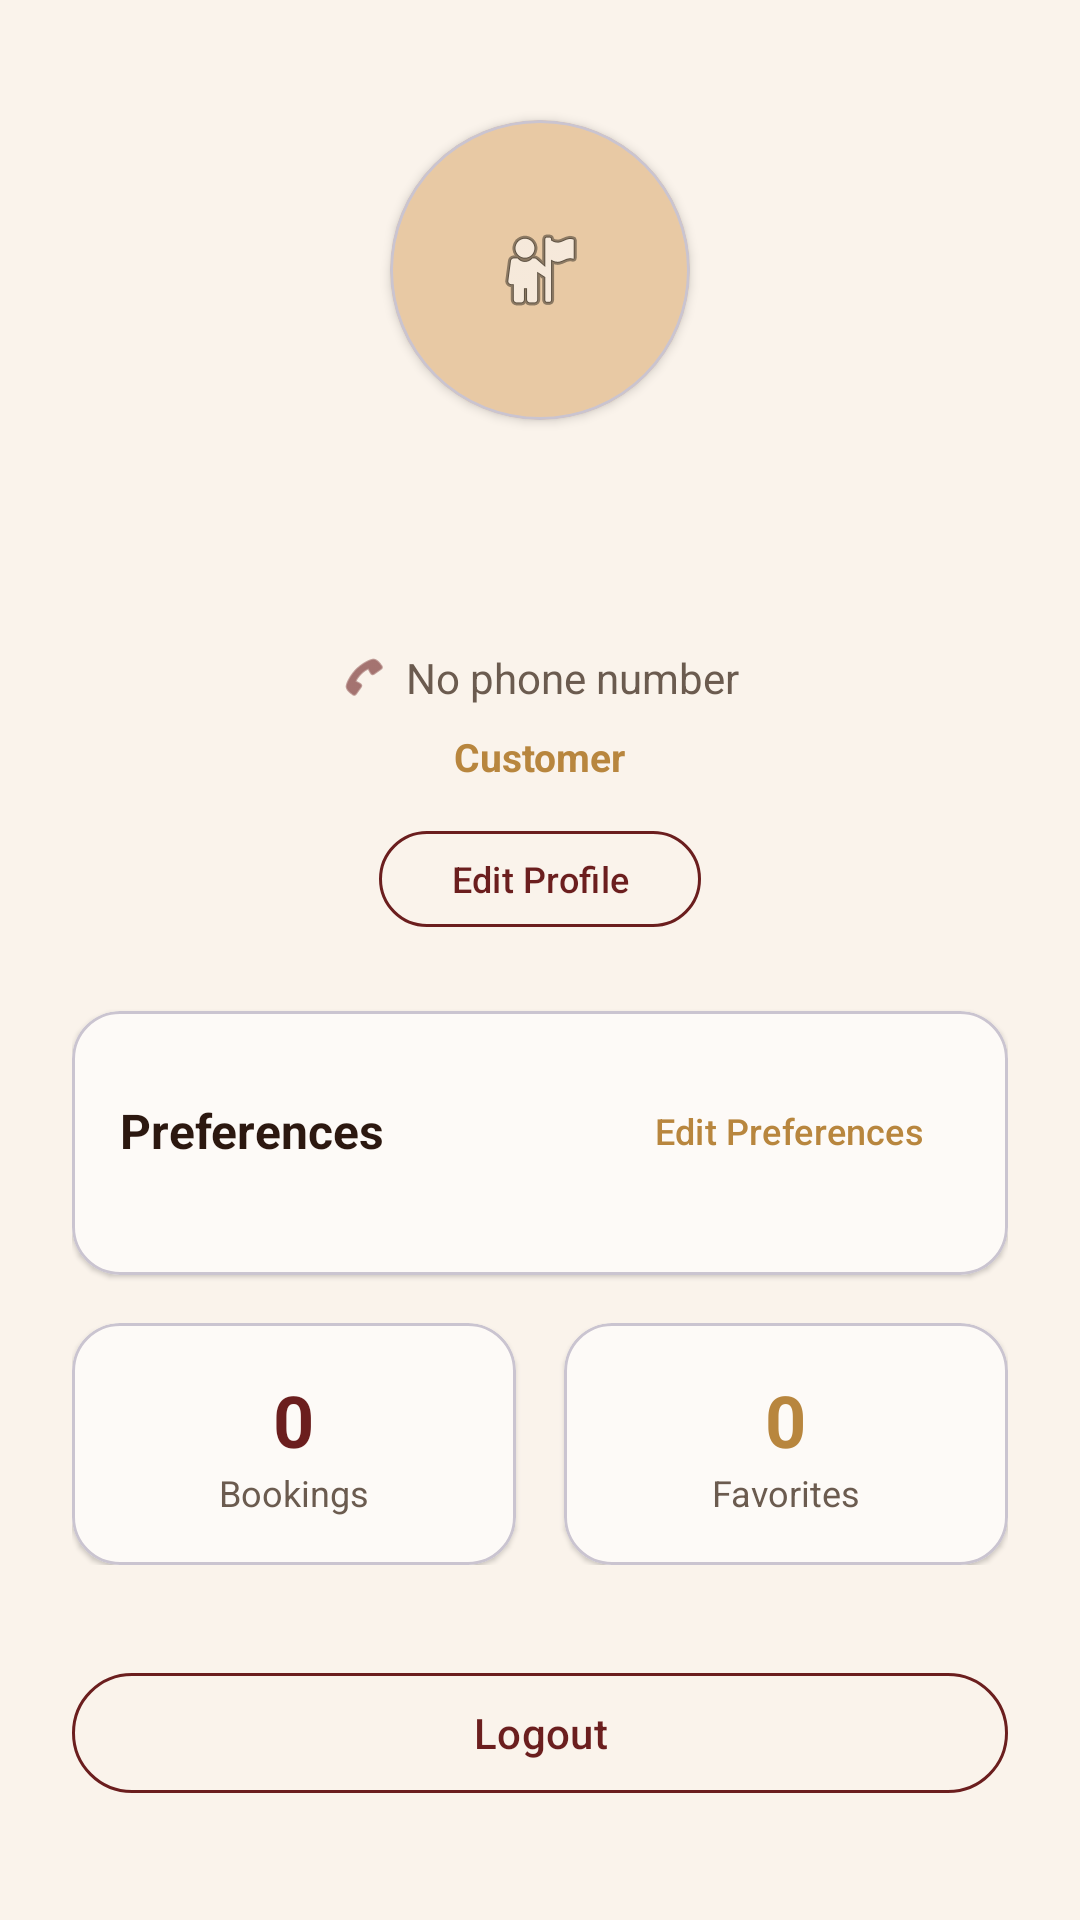

Icon bounding boxes for this 1080 x 1920 phone screenshot, format bbox=(x1, y1, x2, y2):
Profile: bbox=(390, 120, 690, 420)
